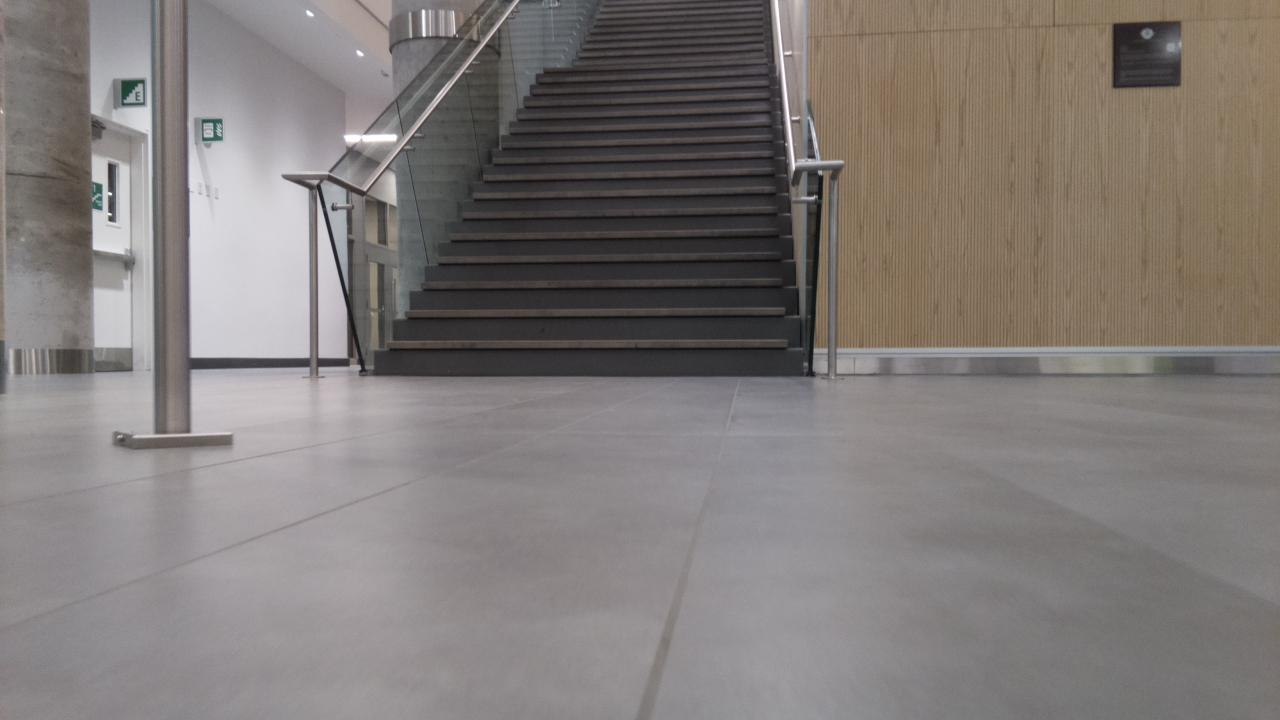door: (91, 122, 132, 370)
sign: (122, 81, 144, 104), (202, 119, 222, 140), (92, 182, 102, 209)
stair: (373, 0, 804, 375)
